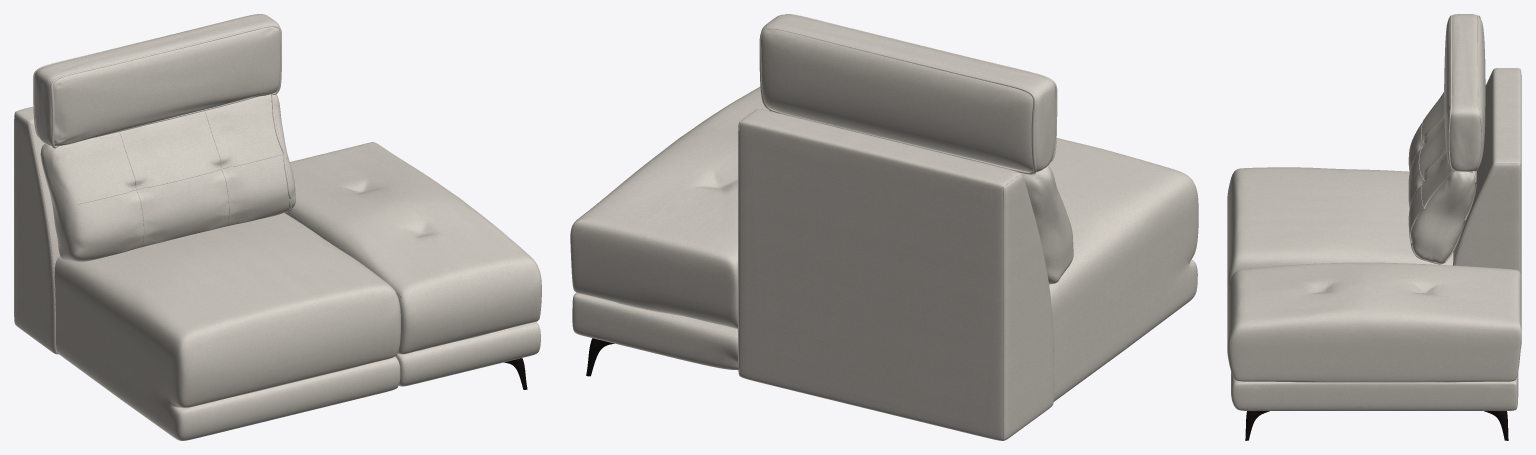
The model's file is meridien.glb.
3 renders of one model, left to right at view 1: azimuth 30°, elevation 25°; view 2: azimuth 150°, elevation 25°; view 3: azimuth 270°, elevation 25°, orthographic. The views are drawn at different scales.
Visible parts, largest first — view 1: D=~ 0,00 m; view 2: D=~ 0,00 m; view 3: D=~ 0,00 m, pé.
Part boxes in pixels (x1,y1,x2,y2): D=~ 0,00 m: [14, 14, 541, 440]; D=~ 0,00 m: [570, 14, 1198, 440]; D=~ 0,00 m: [1227, 14, 1521, 410]; pé: [1245, 411, 1508, 440].
Size of the model in its own units: 1.31 by 1.06 by 1.03.
Materials: 3 (1 with a texture image).
